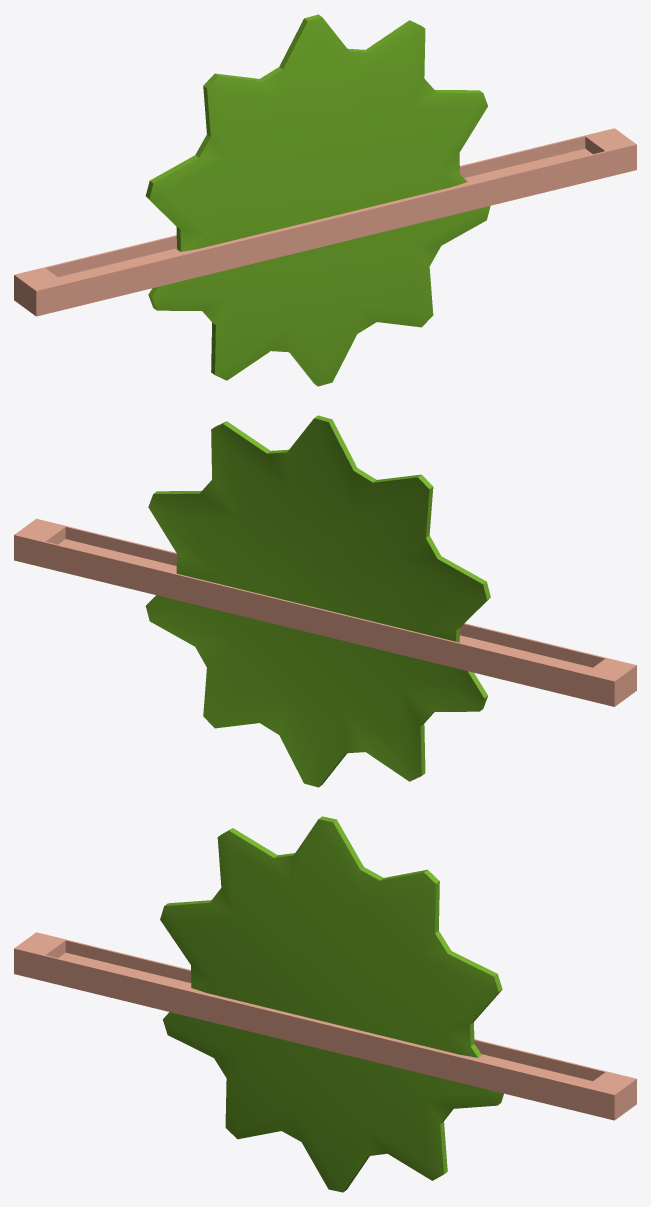
Rendered from cark_animasyon_yeni.fbx.
3 renders of one model, top to bottom at view 1: azimuth 30°, elevation 25°; view 2: azimuth 150°, elevation 25°; view 3: azimuth 330°, elevation 25°, orthographic.
Parts seen in each view (by area): view 1: Circle, Cube; view 2: Circle, Cube; view 3: Circle, Cube.
Boxes of the visible parts, box(x1,y1,x2,y2) form: Circle: box(145, 14, 490, 386); Cube: box(14, 128, 636, 316); Circle: box(145, 415, 490, 787); Cube: box(14, 518, 636, 706); Circle: box(160, 816, 503, 1192); Cube: box(14, 932, 636, 1120).
Bounding box in the file's own units: 399 × 234 × 25.69.
1 material, 1 textured.
